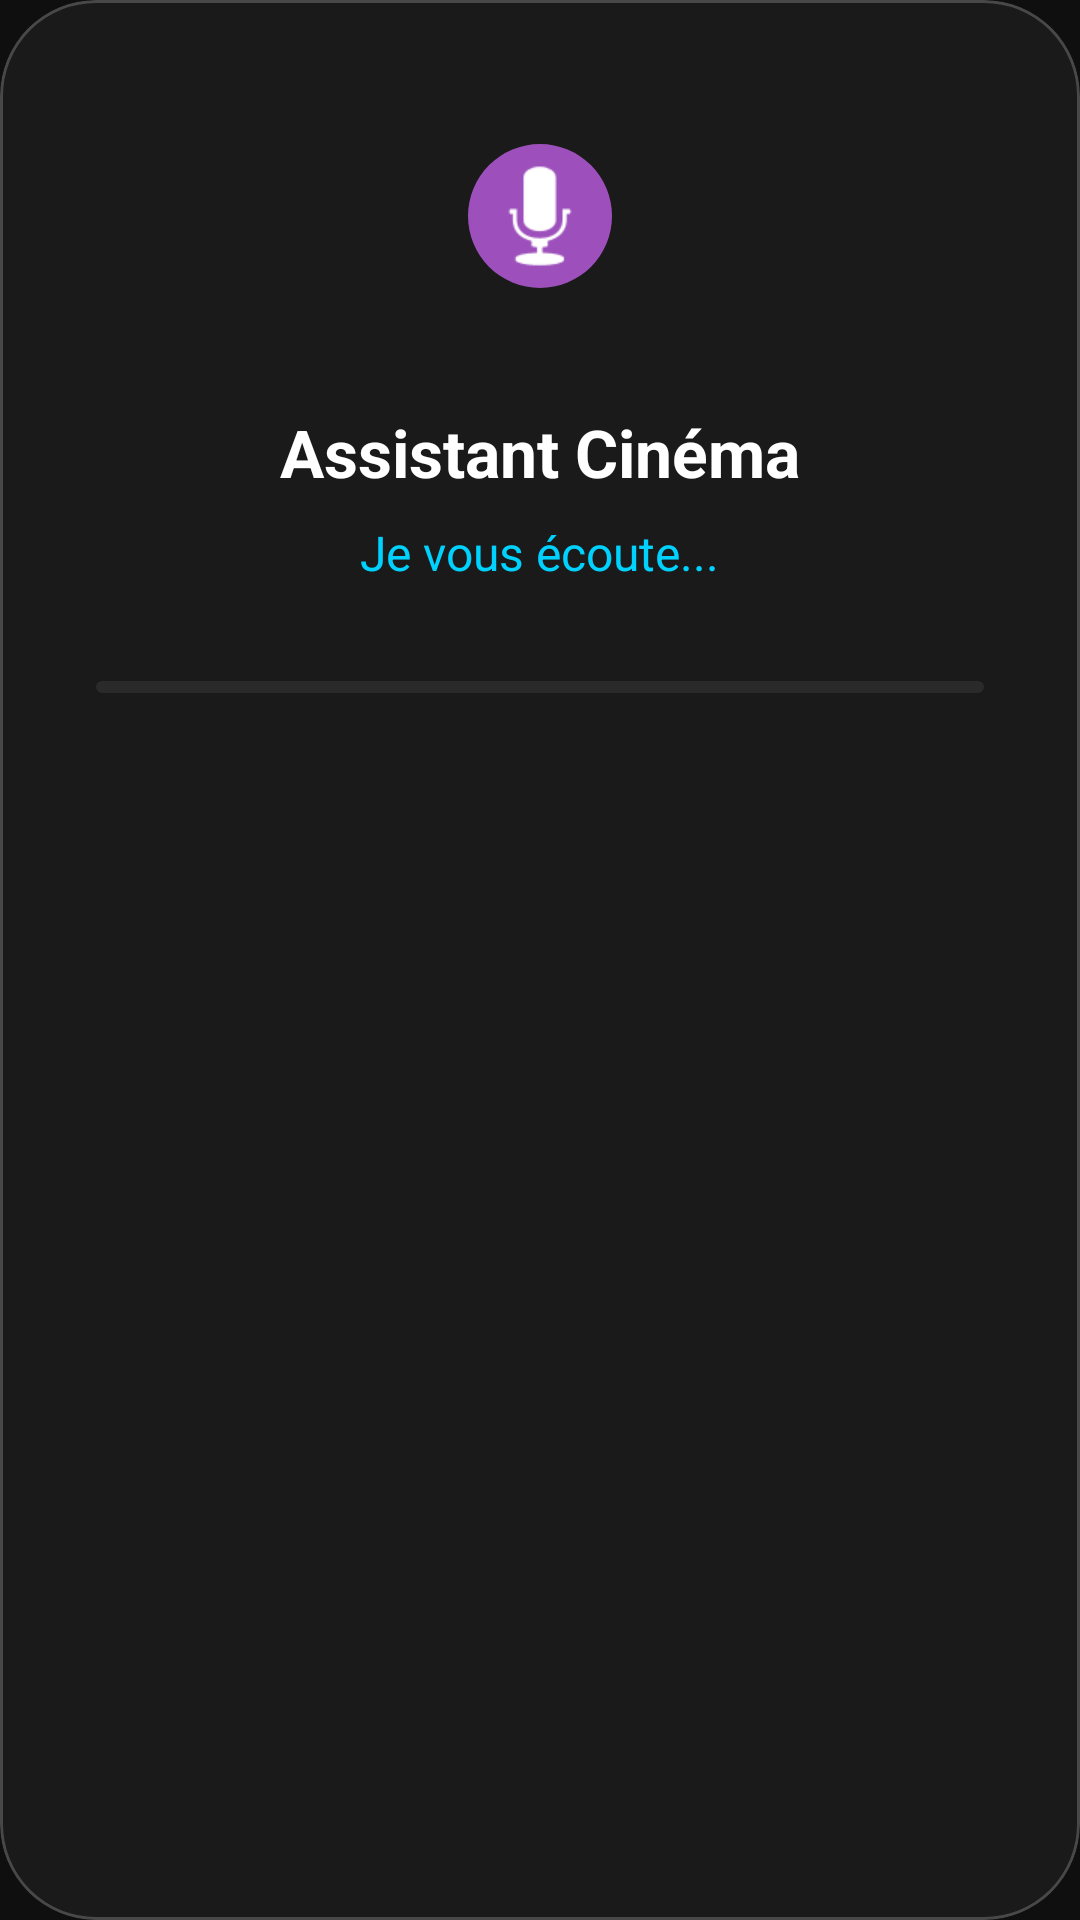

Named icons in this screenshot (1080 × 1920) and their bounding boxes, detection(x1, y1, x2, y2):
speak now: detection(468, 144, 612, 288)
